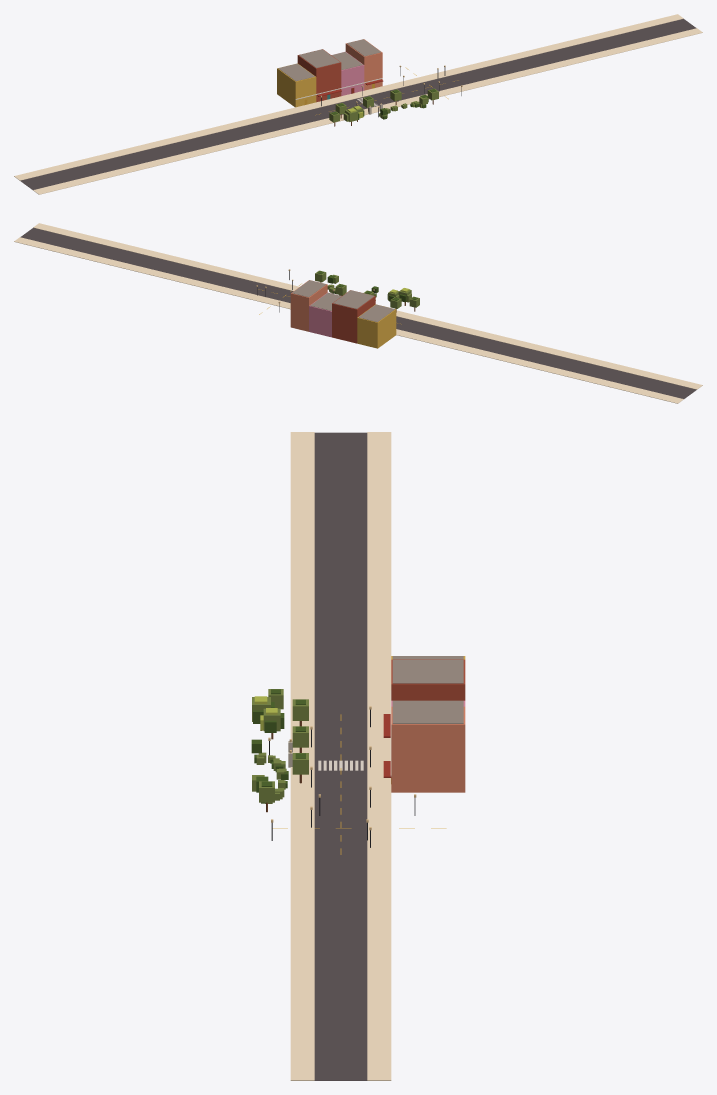
The model's file is chunk_0_-2.glb.
3 renders of one model, top to bottom at view 1: azimuth 30°, elevation 25°; view 2: azimuth 150°, elevation 25°; view 3: azimuth 270°, elevation 25°, orthographic. The views are drawn at different scales.
Parts seen in each view (by area): view 1: chunk_0_-2__ground, chunk_0_-2__building, chunk_0_-2__tree; view 2: chunk_0_-2__ground, chunk_0_-2__building, chunk_0_-2__tree; view 3: chunk_0_-2__ground, chunk_0_-2__building, chunk_0_-2__tree.
Boxes of the visible parts, x1=… form: chunk_0_-2__ground: x1=14, y1=14, x2=702, y2=194; chunk_0_-2__building: x1=277, y1=39, x2=383, y2=107; chunk_0_-2__tree: x1=329, y1=88, x2=438, y2=126; chunk_0_-2__ground: x1=14, y1=223, x2=702, y2=403; chunk_0_-2__building: x1=290, y1=280, x2=396, y2=348; chunk_0_-2__tree: x1=315, y1=270, x2=419, y2=312; chunk_0_-2__ground: x1=273, y1=432, x2=446, y2=1080; chunk_0_-2__building: x1=383, y1=656, x2=465, y2=792; chunk_0_-2__tree: x1=251, y1=689, x2=308, y2=812.
Bounding box in the file's own units: 290 × 14.32 × 40.38.
